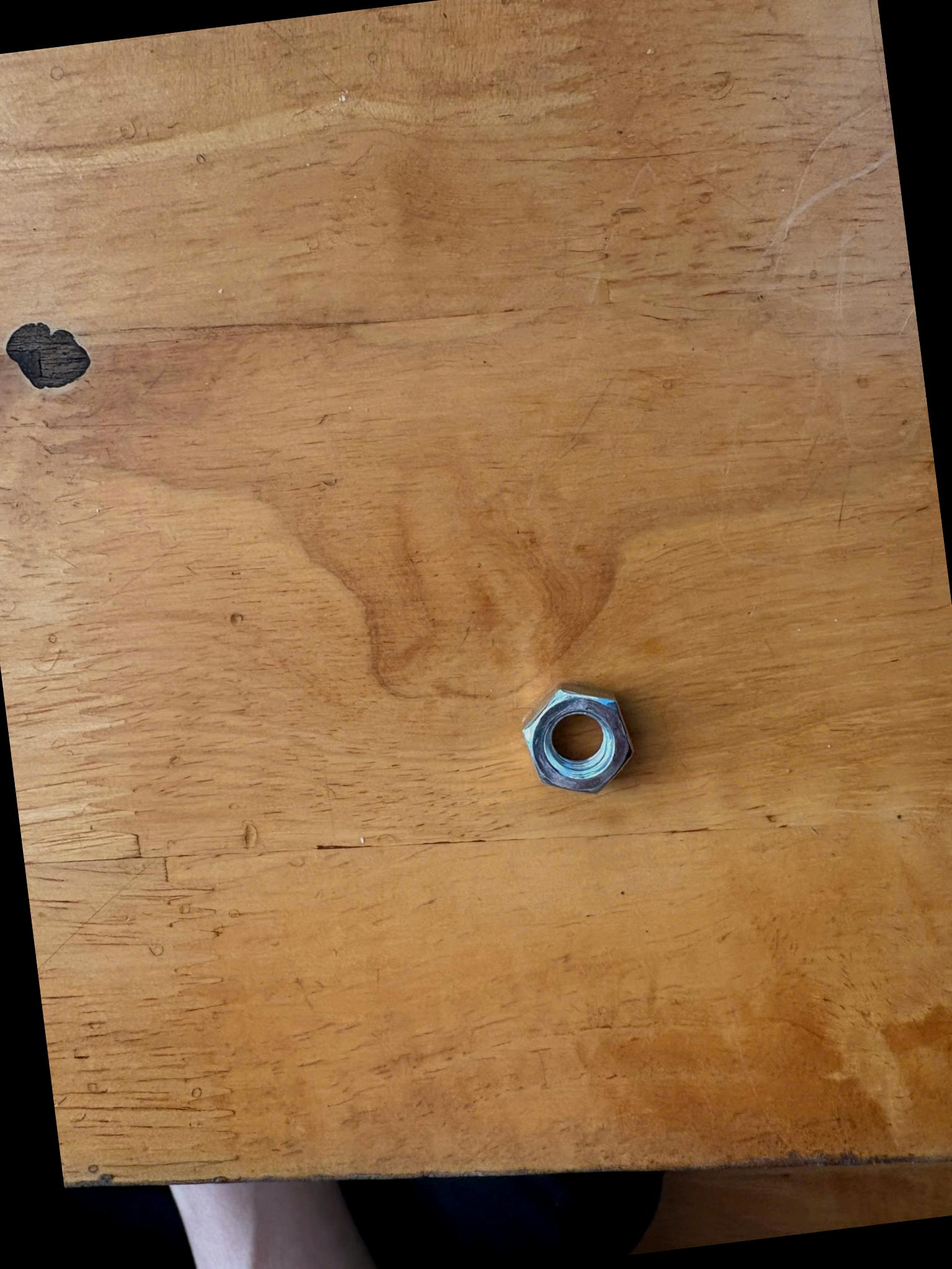nut: (508, 672, 641, 819)
